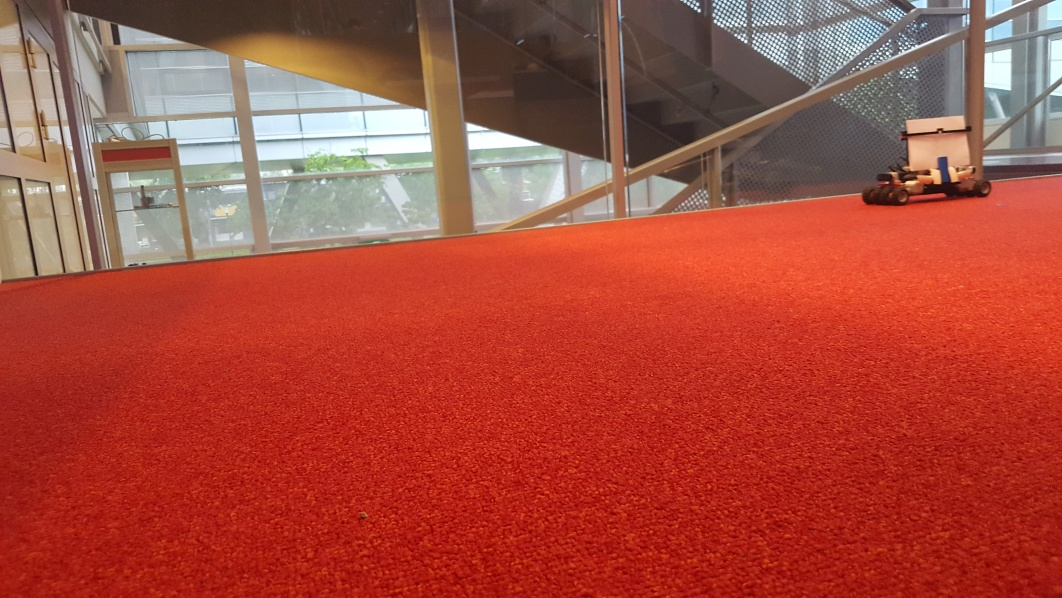car: (863, 115, 993, 205)
